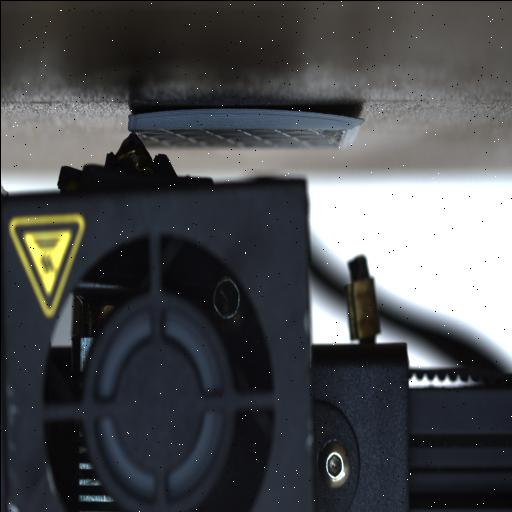warp: (312, 100, 368, 128), (120, 100, 174, 122)
